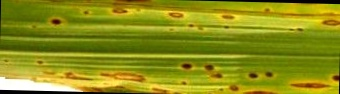Bacterial_Leaf_Blight: (43, 67, 97, 83), (97, 67, 150, 81), (288, 78, 331, 94), (161, 8, 188, 20), (218, 10, 239, 23), (111, 3, 130, 17), (46, 14, 67, 26), (261, 66, 277, 81), (244, 88, 280, 94), (245, 67, 260, 80), (286, 26, 309, 34), (203, 61, 217, 74), (205, 71, 224, 80), (179, 62, 196, 71), (330, 72, 338, 88), (228, 83, 244, 91), (78, 8, 93, 16), (320, 20, 340, 25), (178, 79, 190, 87), (263, 5, 276, 12)
